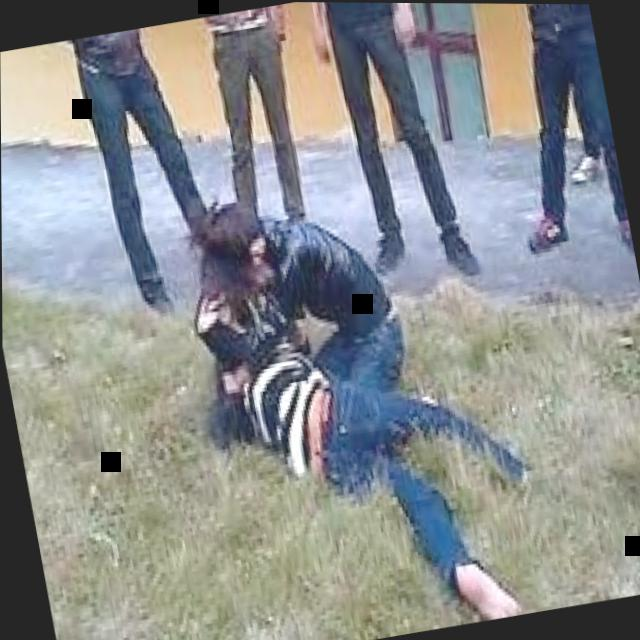Fall-Detected: (171, 256, 567, 640)
